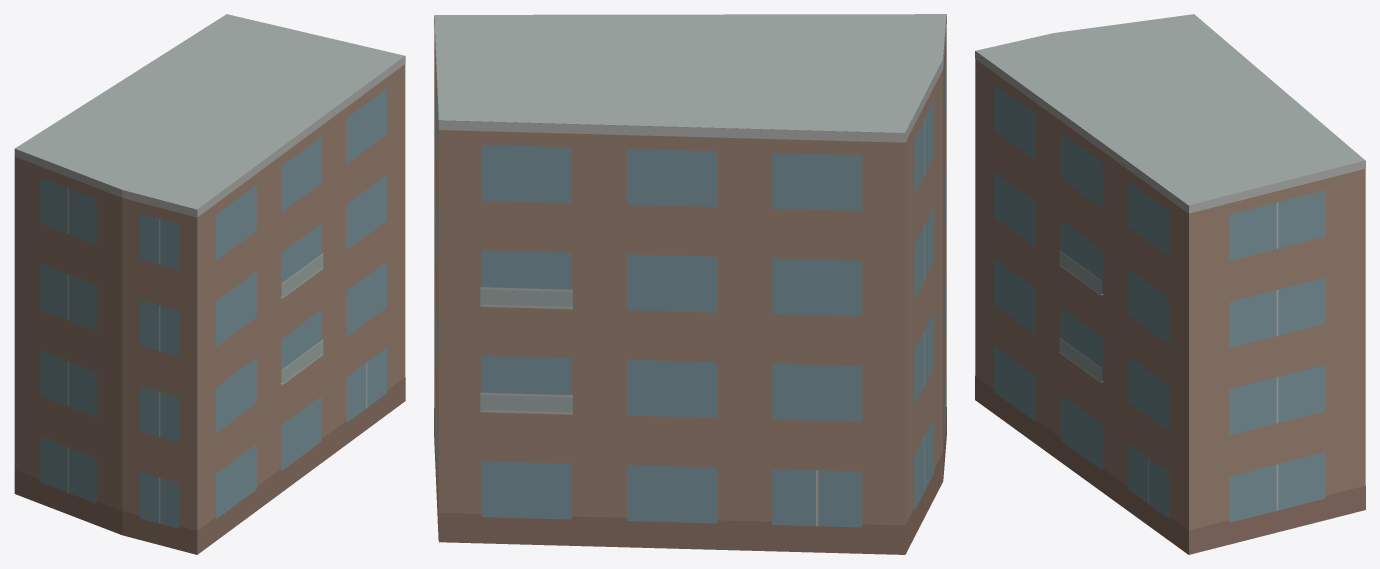
Rendered from survey-upis-32824021.glb.
3 views of the same model, side by side, from view 1: azimuth 30°, elevation 25°; view 2: azimuth 150°, elevation 25°; view 3: azimuth 270°, elevation 25° (orthographic). The views are drawn at different scales.
Parts seen in each view (by area): view 1: survey-upis-32824021.tmp; view 2: survey-upis-32824021.tmp; view 3: survey-upis-32824021.tmp.
Boxes of the visible parts, <box> form: survey-upis-32824021.tmp: <box>14,14,405,554</box>; survey-upis-32824021.tmp: <box>434,14,946,554</box>; survey-upis-32824021.tmp: <box>975,14,1365,554</box>.
Bounding box in the file's own units: 12.48 × 10.6 × 10.75.
